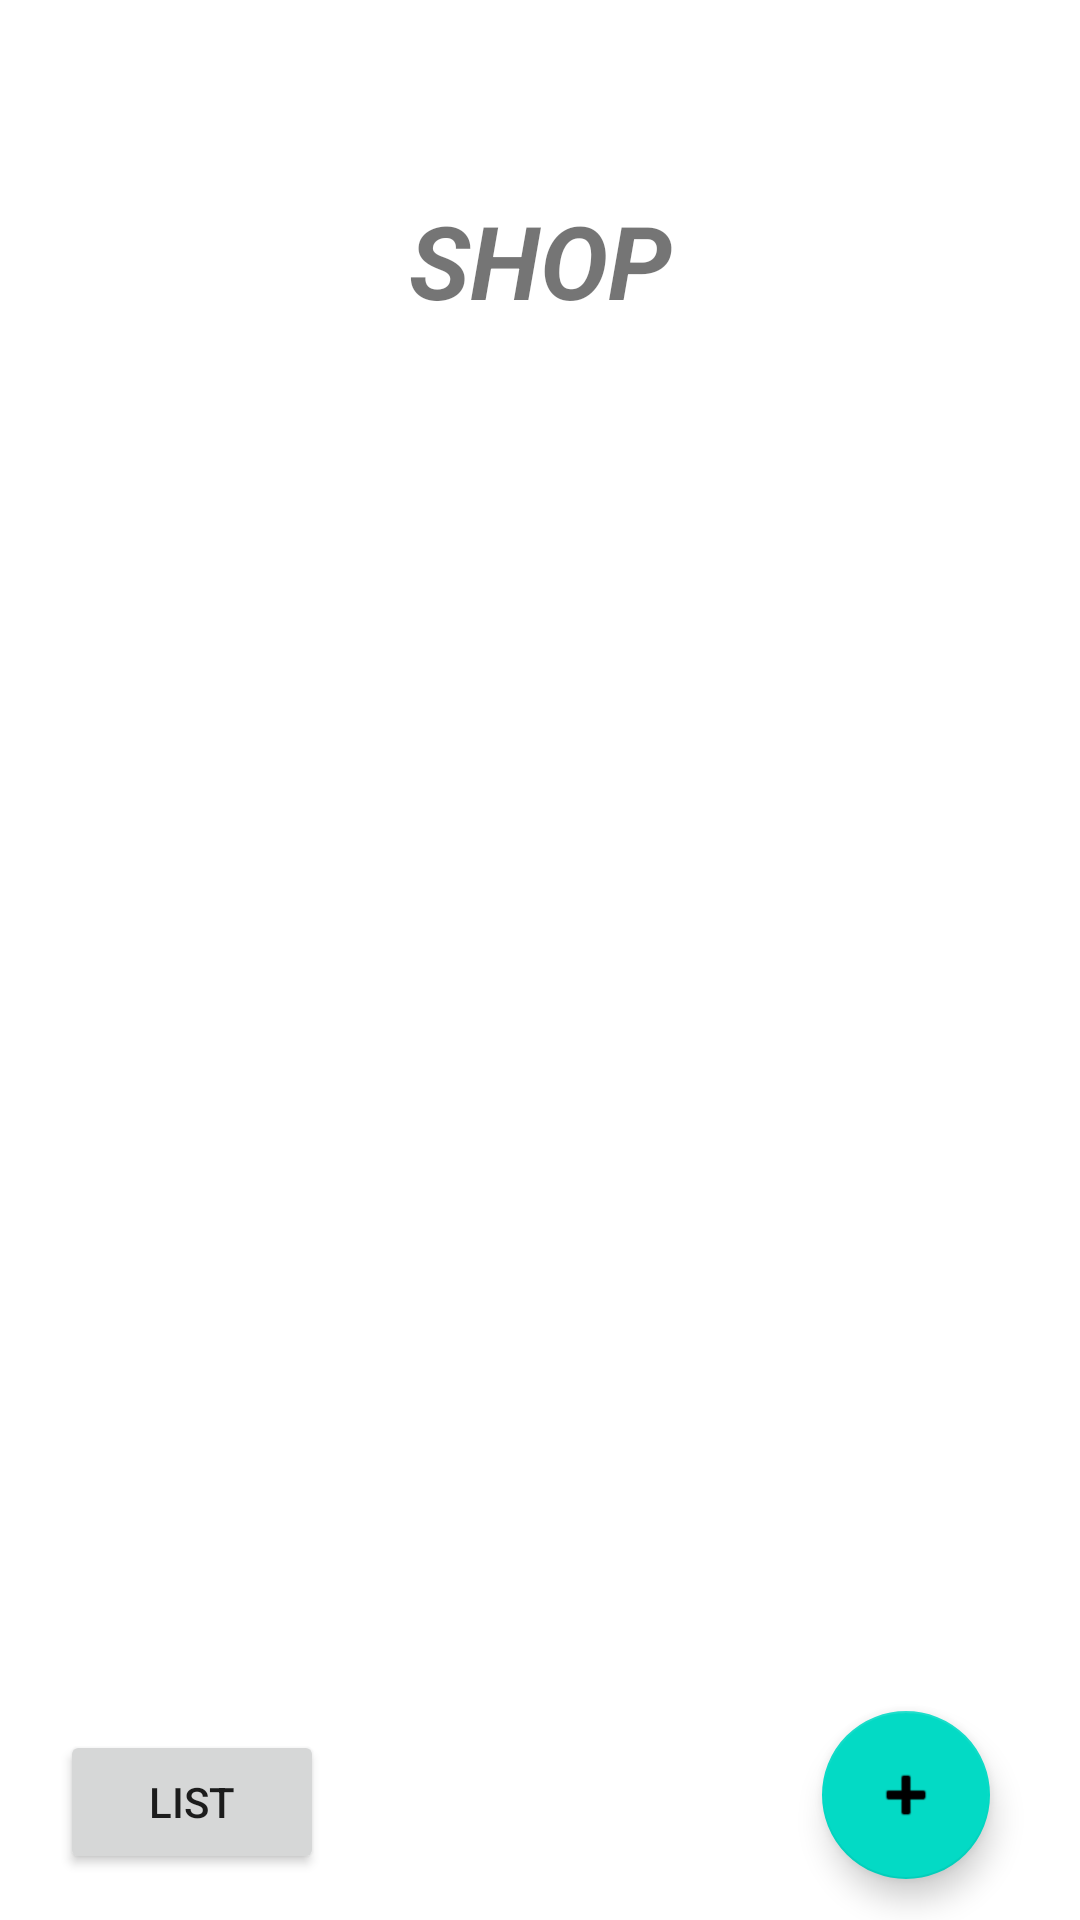

Named icons in this screenshot (1080x1920) and their centers, (x=x, y=y):
Add New Item: (x=906, y=1795)
